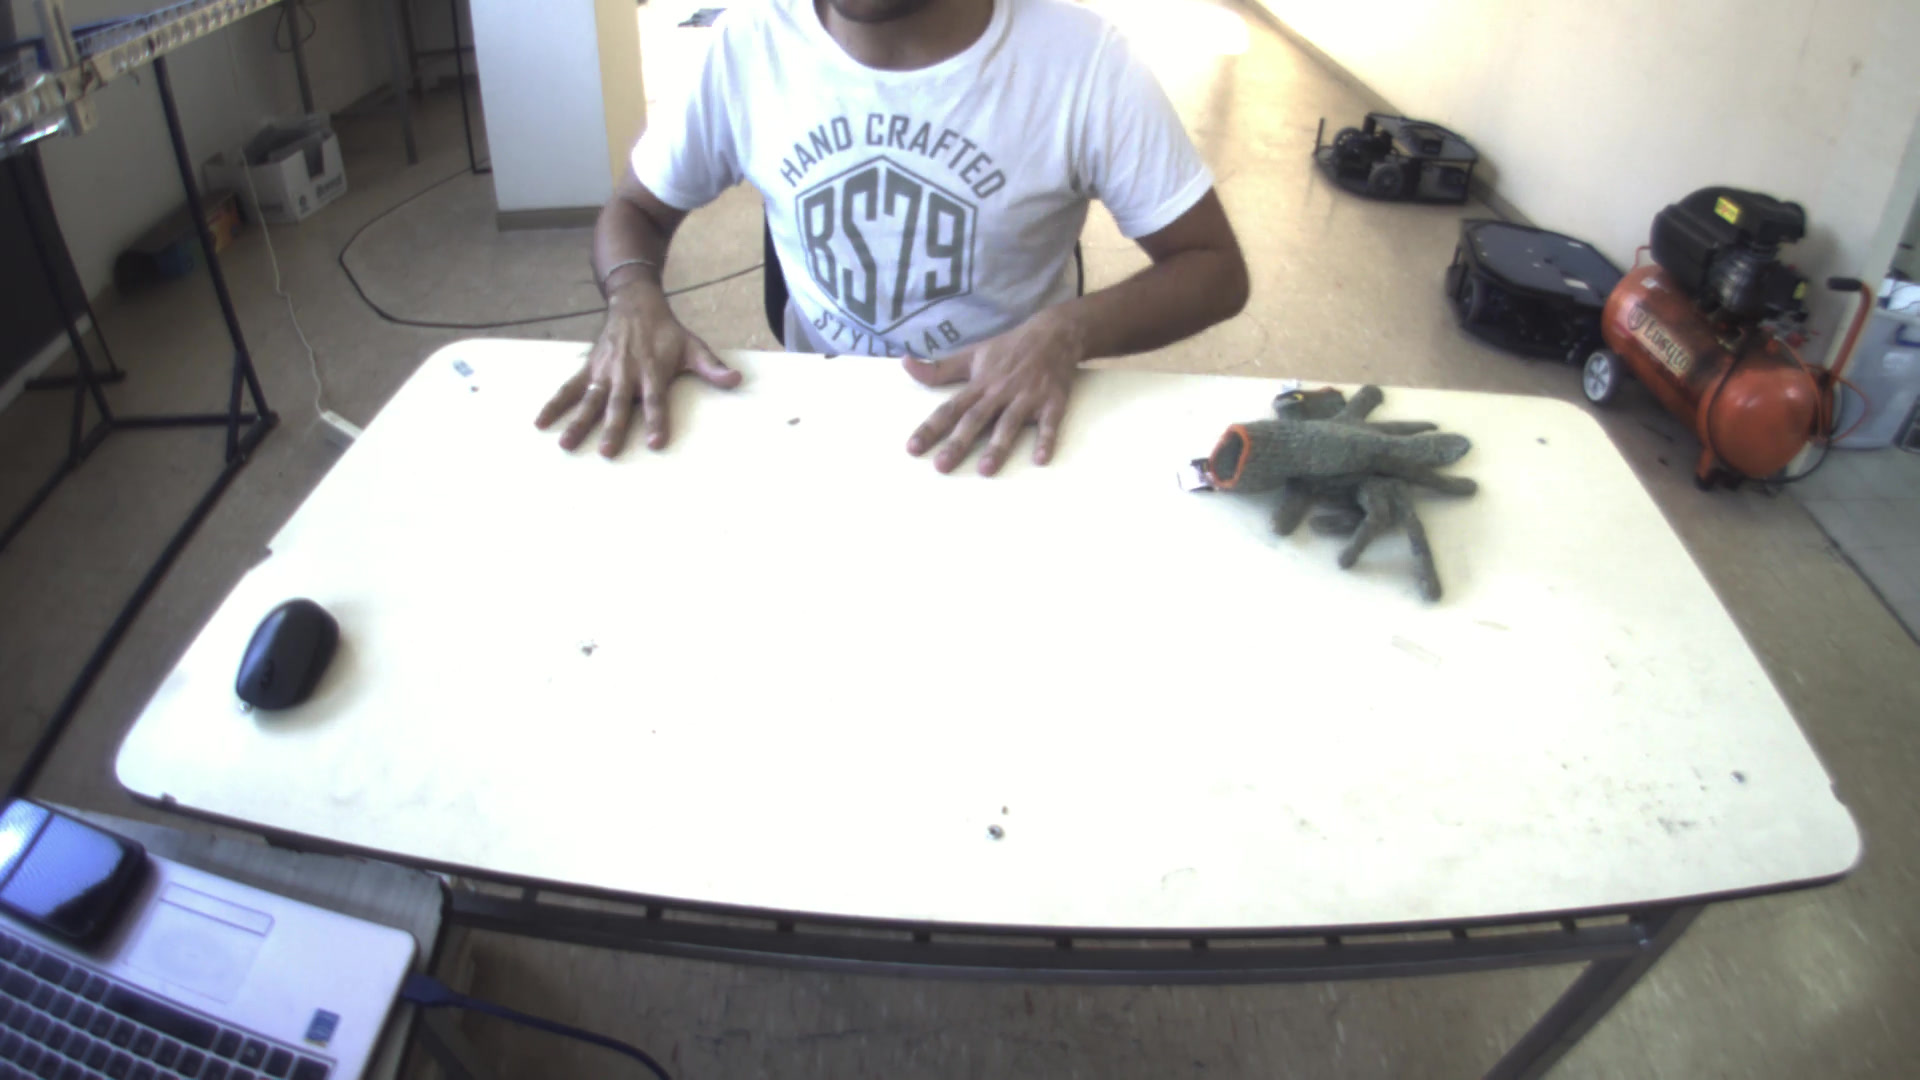hand: (516, 269, 742, 462), (890, 306, 1098, 480)
